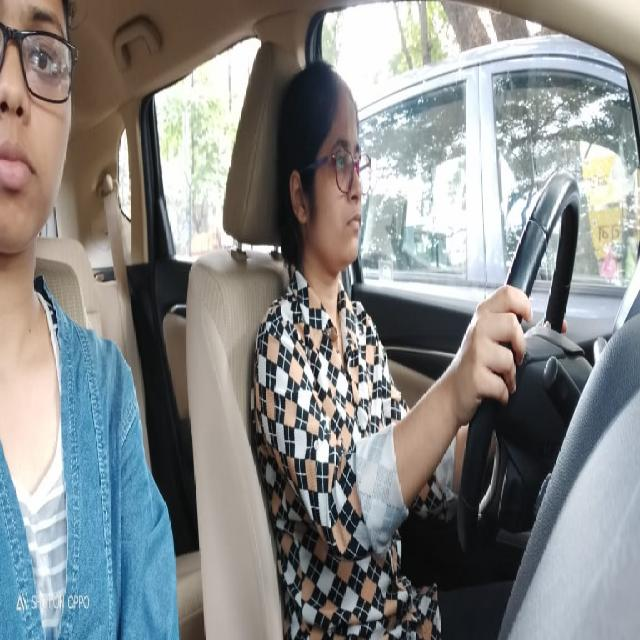person: (2, 1, 80, 280), (280, 61, 368, 277)
